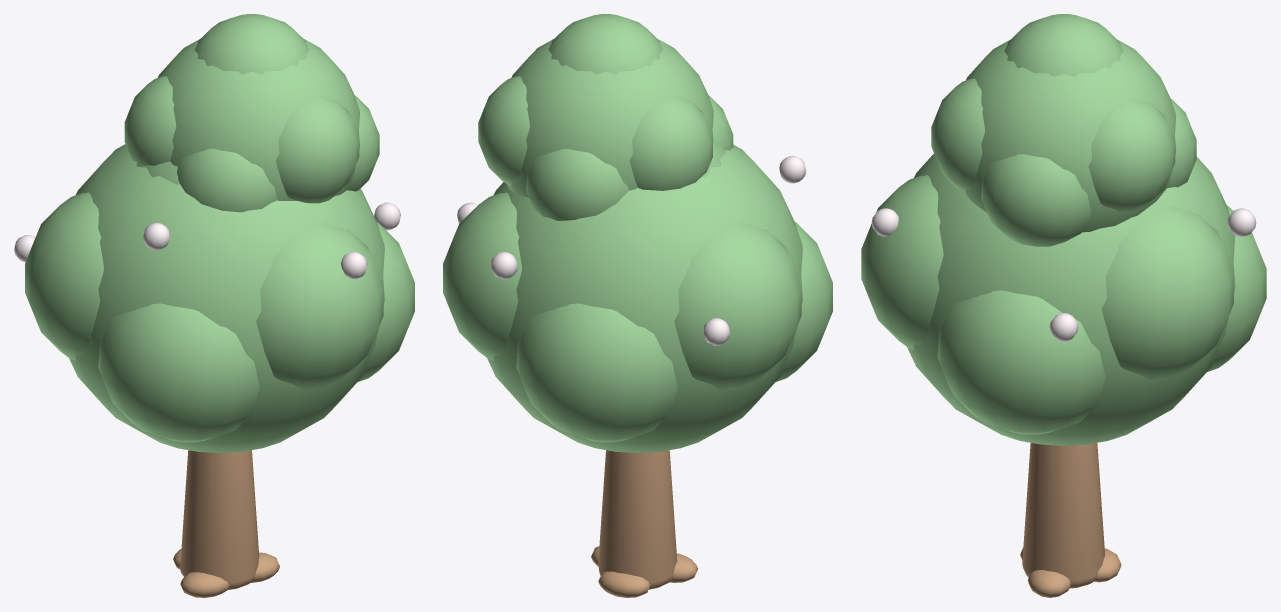
The model's file is treetall.glb.
The picture shows the model from 3 angles, left to right: view 1: azimuth 30°, elevation 25°; view 2: azimuth 150°, elevation 25°; view 3: azimuth 270°, elevation 25°; orthographic projection. The views are drawn at different scales.
Visible parts, largest first — view 1: leaf, cc9a27e, cfff6fa; view 2: leaf, cc9a27e, cfff6fa; view 3: leaf, cc9a27e, cfff6fa.
Boxes of the visible parts, x1,y1,x2,y2 form: leaf: (25,14,414,452); cc9a27e: (173,450,279,597); cfff6fa: (14,202,400,279); leaf: (443,14,832,452); cc9a27e: (591,450,697,597); cfff6fa: (457,155,806,345); leaf: (861,14,1266,445); cc9a27e: (1020,443,1121,597); cfff6fa: (871,208,1256,341).
Size of the model in its own units: 1.29 by 1.98 by 1.26.
